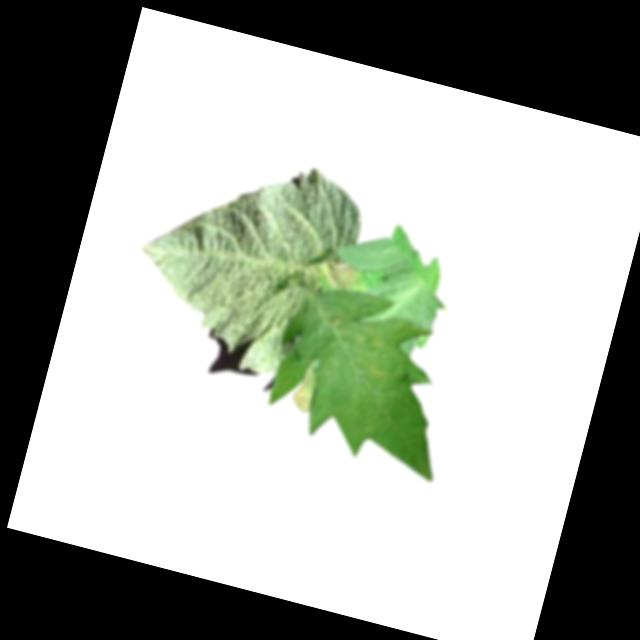Late_blight: (342, 316, 409, 388), (288, 363, 321, 414), (320, 257, 363, 296)
healthy: (120, 131, 372, 388)
